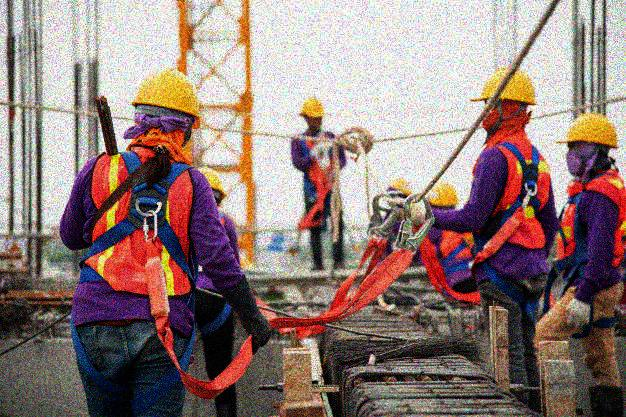helmet: (130, 68, 203, 149), (467, 65, 537, 125), (553, 112, 618, 175), (195, 163, 225, 207), (422, 180, 460, 209), (298, 94, 325, 132), (386, 176, 413, 201)
